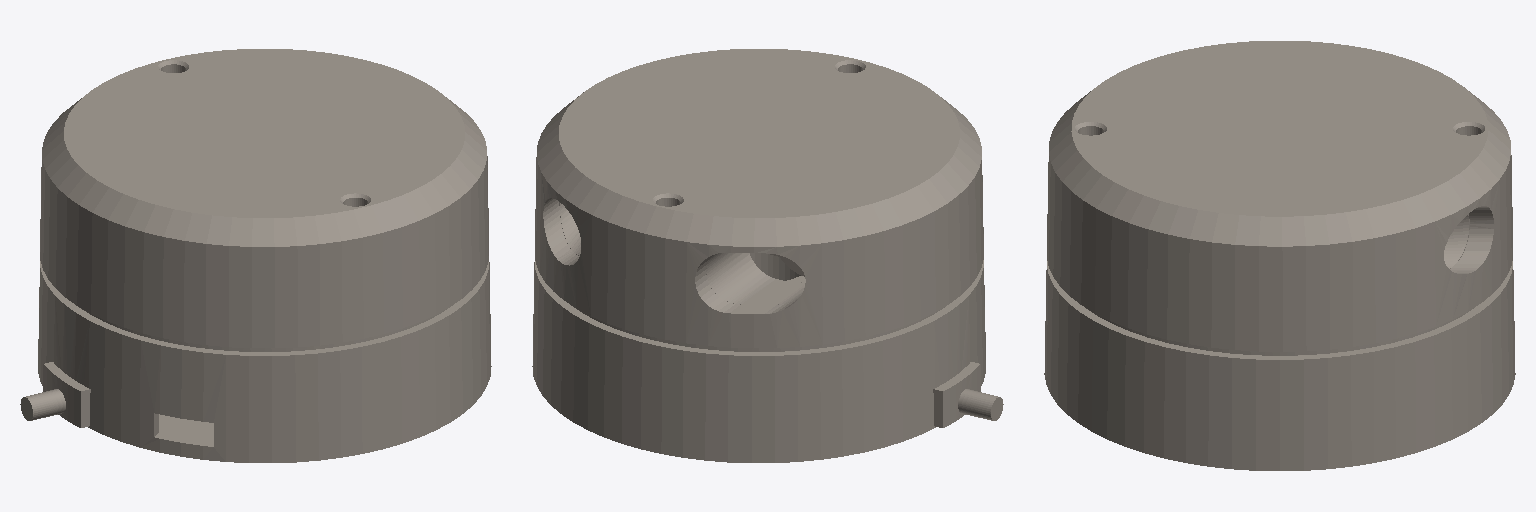
URDF robot description (ydlidar_ros):
<robot
  name="ydlidar_ros">
  <link
    name="base_laser">
    <inertial>
      <origin
        xyz="-0.00029774 0.0066667 0.00013047"
        rpy="0 0 0" />
      <mass
        value="0.15717" />
      <inertia
        ixx="6.7885E-05"
        ixy="-1.3987E-07"
        ixz="-8.1554E-07"
        iyy="0.00013173"
        iyz="-9.0932E-08"
        izz="7.1972E-05" />
    </inertial>
    <visual>
      <origin
        xyz="0 0 0"
        rpy="0 0 0" />
      <geometry>
        <mesh
          filename="package://cultureid_turtlebot_description/turtlebot/meshes/sensors/ydlidar_tg30.dae" />
      </geometry>
      <material
        name="">
        <color
          rgba="0.64706 0.61961 0.58824 1" />
      </material>
    </visual>
    <collision>
      <origin
        xyz="0 0 0"
        rpy="0 0 0" />
      <geometry>
        <mesh
          filename="package://cultureid_turtlebot_description/turtlebot/meshes/sensors/ydlidar_tg30.dae" />
      </geometry>
    </collision>
  </link>
  <link
    name="laser_frame">
    <inertial>
      <origin
        xyz="-0.00036659 0.00064155 -0.00027052"
        rpy="0 0 0" />
      <mass
        value="0.25482" />
      <inertia
        ixx="8.9194E-05"
        ixy="1.8116E-07"
        ixz="3.6435E-08"
        iyy="0.00018279"
        iyz="2.423E-07"
        izz="0.00011103" />
    </inertial>
    <!--visual>
      <origin
        xyz="0 0 0"
        rpy="0 0 0" />
      <geometry>
        <mesh
          filename="package://cultureid_turtlebot_description/turtlebot/meshes/sensors/ydlidar_tg30.dae" />
      </geometry>
      <material
        name="">
        <color
          rgba="0.64706 0.61961 0.58824 1" />
      </material>
    </visual-->
    <!--collision>
      <origin
        xyz="0 0 0"
        rpy="0 0 0" />
      <geometry>
        <mesh
          filename="package://cultureid_turtlebot_description/turtlebot/meshes/sensors/ydlidar_tg30.dae" />
      </geometry>
    </collision-->
  </link>
  <joint
    name="laser_joint"
    type="fixed">
    <origin
      xyz="0 0 0.03172"
      rpy="0 0 0" />
    <parent
      link="base_laser" />
    <child
      link="laser_frame" />
    <axis
      xyz="0 0 0" />
  </joint>
</robot>

--- Facts derived from the render (not from the file) ---
3 views of the same robot in one strip: view 1: azimuth 30°, elevation 25°; view 2: azimuth 150°, elevation 25°; view 3: azimuth 270°, elevation 25° (orthographic).
Robot: ydlidar_ros — 2 links, 1 joints (1 fixed); root link base_laser; default pose: every joint at zero.
Visible links, largest first — view 1: base_laser; view 2: base_laser; view 3: base_laser.
Boxes of the visible links, x1,y1,x2,y2 form: base_laser: (20,49,491,462); base_laser: (532,49,1003,462); base_laser: (1044,41,1515,470).
Size in the robot's own frame: 0.0832 by 0.0752 by 0.0429 metres.
1 mesh visuals loaded from 1 distinct referenced files (1 Collada DAE).